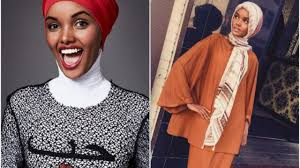middle_eastern_Female: (48, 7, 107, 79), (233, 9, 255, 38)
